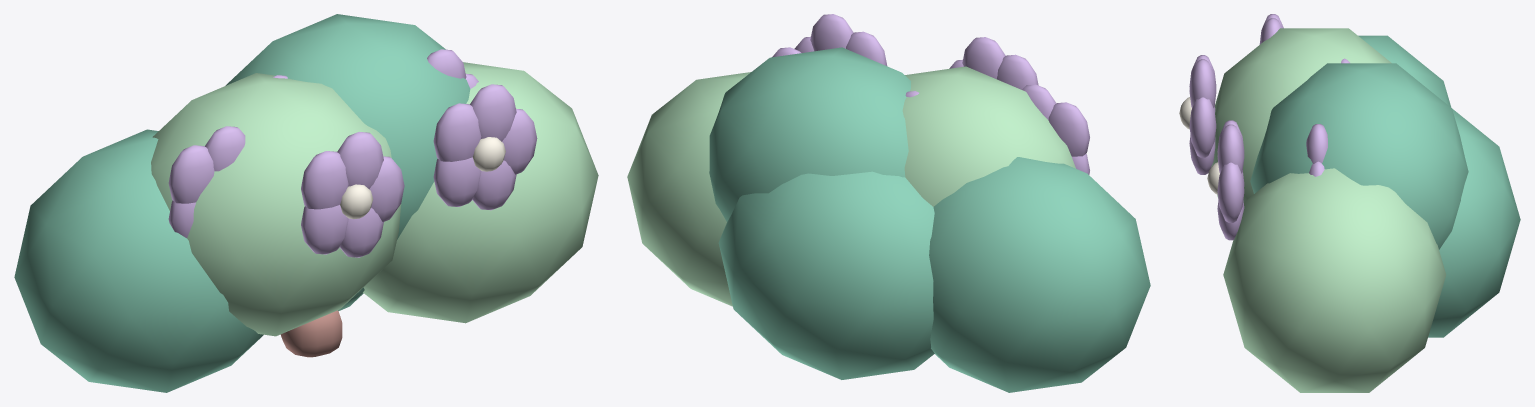
File: meadow_bush_2.glb
The picture shows the model from 3 angles, left to right: view 1: azimuth 30°, elevation 25°; view 2: azimuth 150°, elevation 25°; view 3: azimuth 270°, elevation 25°; orthographic projection. The views are drawn at different scales.
Visible parts, largest first — view 1: LeafMass_0.002, LeafMass_1.002, LeafMass_3.002, LeafMass_2.002, Flower_4_Petal_2.002, Flower_3_Petal_2.002, Flower_2_Petal_2.002, Root.002, Flower_3_Petal_1.002, Flower_4_Petal_1.002, Flower_4_Petal_3.002, Flower_3_Petal_3.002 (+9 smaller); view 2: LeafMass_0.002, LeafMass_4.002, LeafMass_2.002, LeafMass_3.002, LeafMass_1.002, Flower_2_Petal_2.002, Flower_3_Petal_1.002, Flower_4_Petal_1.002, Flower_3_Petal_2.002, Flower_4_Petal_2.002, Flower_2_Petal_1.002; view 3: LeafMass_3.002, LeafMass_2.002, LeafMass_4.002, LeafMass_1.002, LeafMass_0.002, Flower_4_Petal_0.002, Flower_3_Petal_0.002, Flower_3_Petal_1.002, Flower_4_Petal_1.002, Flower_0_Petal_1.002, Flower_3_Petal_4.002, Flower_4_Petal_4.002 (+1 smaller).
Part boxes in pixels (x1,y1,x2,y2): LeafMass_0.002: (14, 129, 263, 392); LeafMass_1.002: (151, 73, 401, 336); LeafMass_3.002: (363, 62, 598, 323); LeafMass_2.002: (225, 14, 470, 239); Flower_4_Petal_2.002: (433, 103, 481, 161); Flower_3_Petal_2.002: (301, 151, 348, 209); Flower_2_Petal_2.002: (168, 145, 214, 203); Root.002: (280, 310, 342, 357); Flower_3_Petal_1.002: (337, 132, 383, 188); Flower_4_Petal_1.002: (470, 84, 516, 141); Flower_4_Petal_3.002: (433, 157, 481, 206); Flower_3_Petal_3.002: (301, 205, 348, 254); LeafMass_0.002: (929, 157, 1150, 392); LeafMass_4.002: (718, 171, 934, 379); LeafMass_2.002: (709, 47, 910, 221); LeafMass_3.002: (627, 72, 750, 306); LeafMass_1.002: (902, 66, 1075, 206); Flower_2_Petal_2.002: (1048, 102, 1089, 156); Flower_3_Petal_1.002: (962, 37, 1005, 78); Flower_4_Petal_1.002: (810, 14, 853, 51); Flower_3_Petal_2.002: (997, 54, 1038, 89); Flower_4_Petal_2.002: (846, 31, 887, 65); Flower_2_Petal_1.002: (1022, 84, 1056, 119); LeafMass_3.002: (1223, 168, 1446, 392); LeafMass_2.002: (1250, 63, 1468, 249); LeafMass_4.002: (1428, 108, 1520, 337); LeafMass_1.002: (1211, 28, 1391, 202); LeafMass_0.002: (1358, 35, 1451, 107); Flower_4_Petal_0.002: (1217, 162, 1244, 222); Flower_3_Petal_0.002: (1189, 97, 1216, 157); Flower_3_Petal_1.002: (1189, 59, 1216, 108); Flower_4_Petal_1.002: (1217, 124, 1244, 173); Flower_0_Petal_1.002: (1306, 124, 1327, 163); Flower_3_Petal_4.002: (1189, 135, 1215, 174); Flower_4_Petal_4.002: (1217, 200, 1244, 240).
Bounding box in the file's own units: 3.3 × 1.83 × 2.02.
